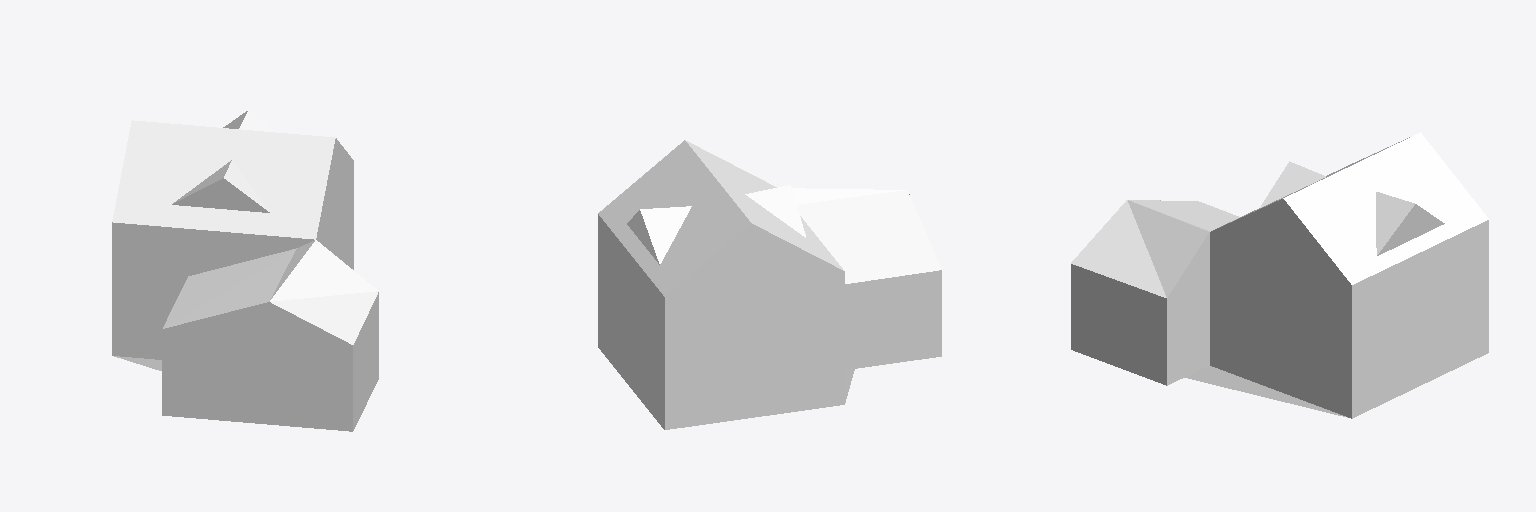
The model's file is house_Shape 337.obj.
3 renders of one model, left to right at view 1: azimuth 30°, elevation 25°; view 2: azimuth 150°, elevation 25°; view 3: azimuth 270°, elevation 25°, orthographic.
Parts seen in each view (by area): view 1: CityEngineMaterial_18, CityEngineMaterial_179, CityEngineMaterial_228, CityEngineMaterial_180; view 2: CityEngineMaterial_180, CityEngineMaterial_18, CityEngineMaterial_228; view 3: CityEngineMaterial_18, CityEngineMaterial_180, CityEngineMaterial_228, CityEngineMaterial_179, CityEngineMaterial_178.
Part boxes in pixels (x1,y1,x2,y2): CityEngineMaterial_18: (112, 110, 378, 344); CityEngineMaterial_179: (112, 204, 353, 431); CityEngineMaterial_228: (112, 138, 353, 339); CityEngineMaterial_180: (172, 178, 378, 430); CityEngineMaterial_180: (598, 257, 941, 429); CityEngineMaterial_18: (598, 140, 941, 296); CityEngineMaterial_228: (598, 194, 909, 338); CityEngineMaterial_18: (1071, 132, 1488, 297); CityEngineMaterial_180: (1071, 262, 1488, 418); CityEngineMaterial_228: (1160, 199, 1488, 327); CityEngineMaterial_179: (1210, 204, 1444, 418); CityEngineMaterial_178: (1185, 366, 1347, 417).
Bounding box in the file's own units: 13.87 × 9.62 × 18.75.